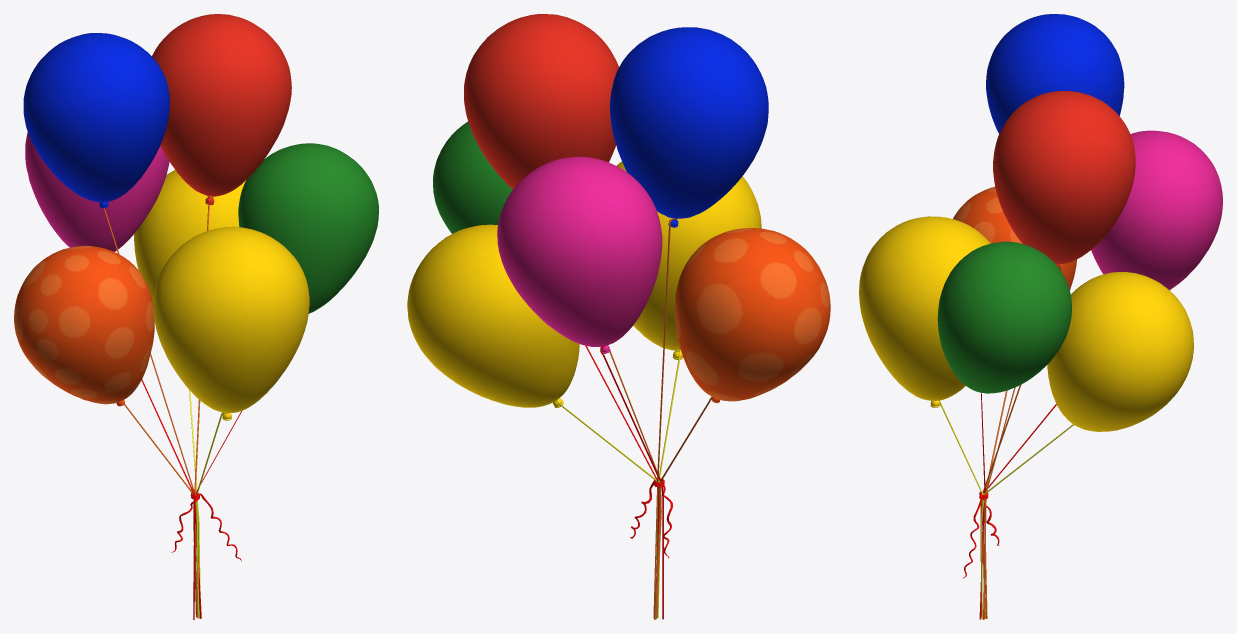
The model's file is ballon-transformed.glb.
3 renders of one model, left to right at view 1: azimuth 30°, elevation 25°; view 2: azimuth 150°, elevation 25°; view 3: azimuth 270°, elevation 25°, orthographic. The views are drawn at different scales.
Visible parts, largest first — view 1: group_of_balloons.1_1; view 2: group_of_balloons.1_1; view 3: group_of_balloons.1_1.
Part boxes in pixels (x1,y1,x2,y2): group_of_balloons.1_1: [14, 14, 378, 619]; group_of_balloons.1_1: [407, 14, 830, 619]; group_of_balloons.1_1: [859, 14, 1222, 619].
Size of the model in its own units: 0.5555 by 0.8748 by 0.5094.
1 material, 1 textured.
